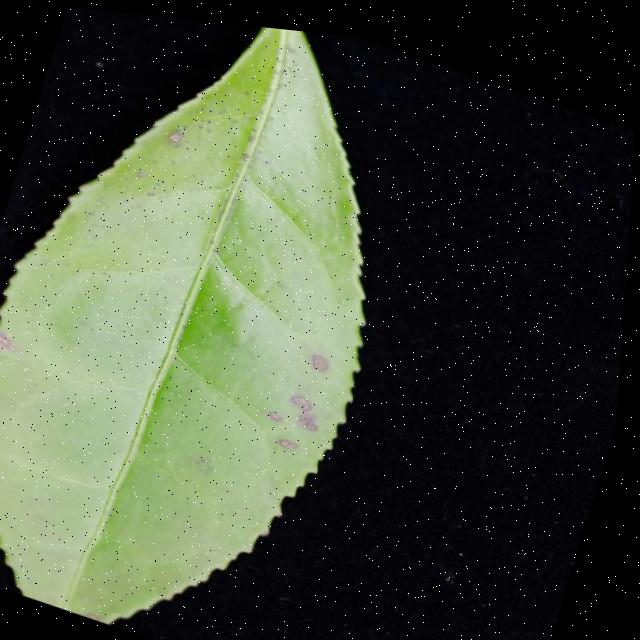Tea red rust: (0, 2, 438, 640)
